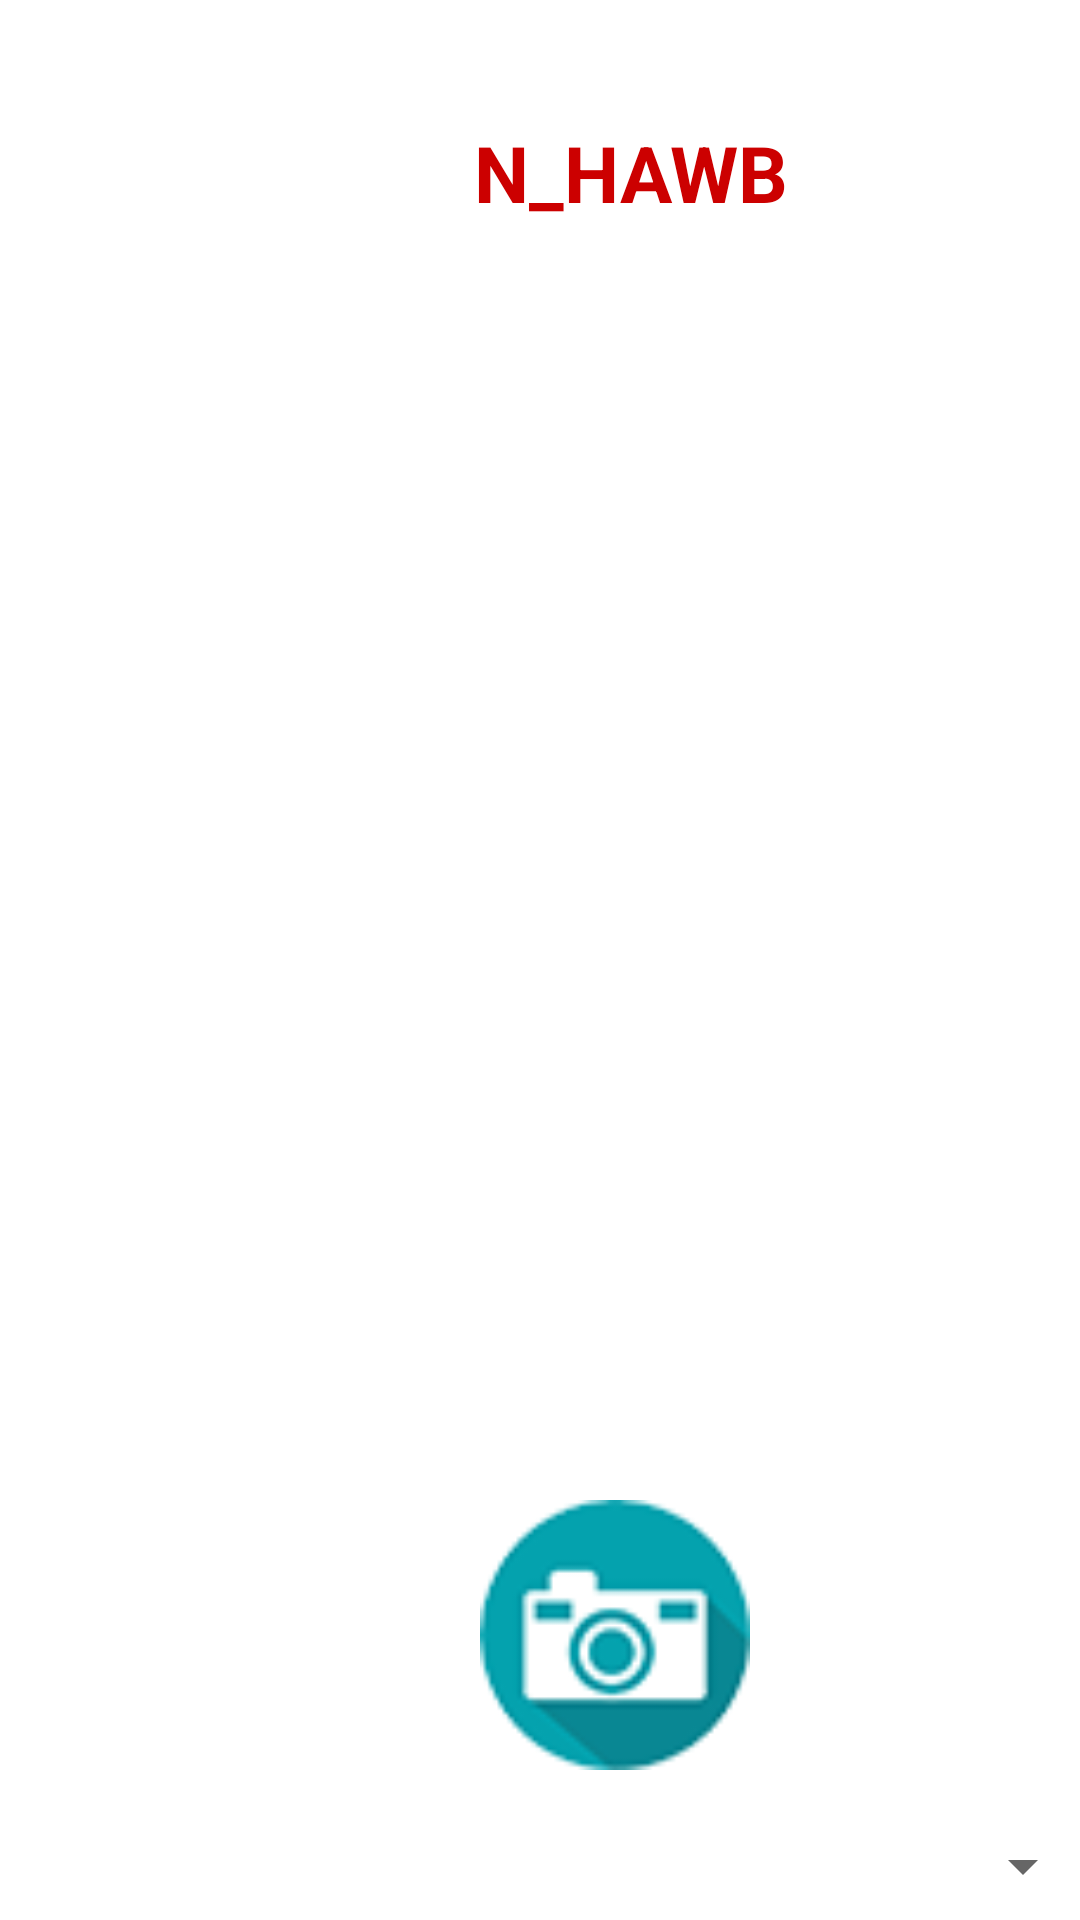

Where icons sit on this 1080x1920 app screen, as (x1, y1, x2, y2):
maqui foto azul: (480, 1500, 750, 1770)
